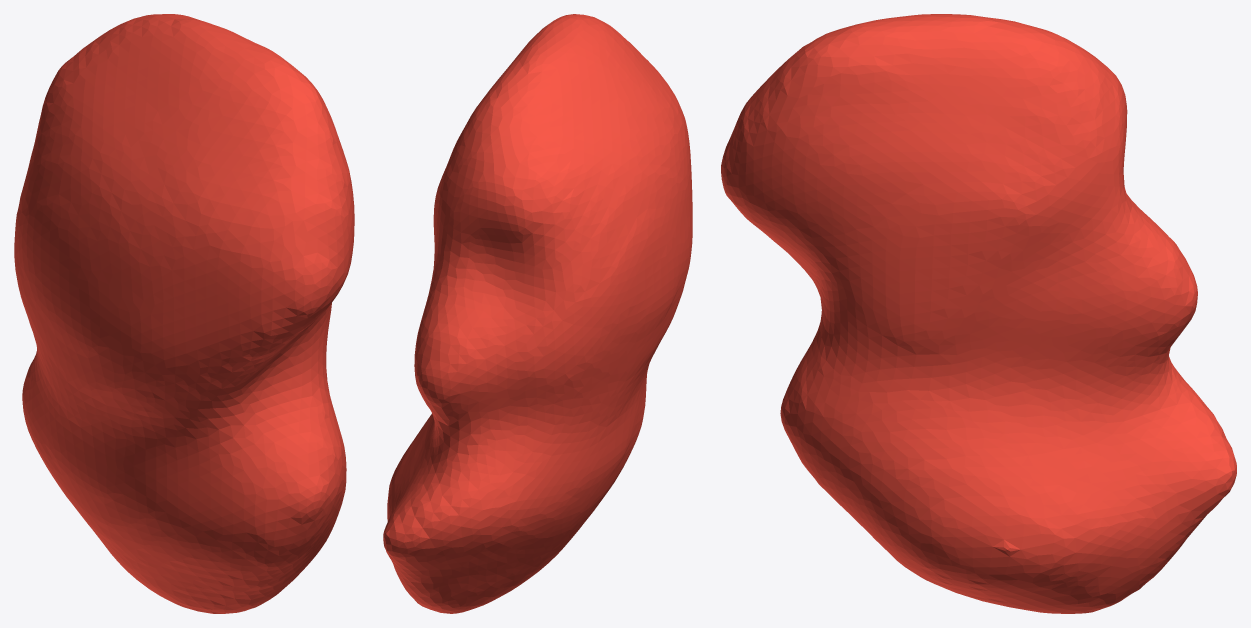
File: case_12_stroke.gltf
The picture shows the model from 3 angles, left to right: view 1: azimuth 30°, elevation 25°; view 2: azimuth 150°, elevation 25°; view 3: azimuth 270°, elevation 25°; orthographic projection. The views are drawn at different scales.
Parts seen in each view (by area): view 1: stroke; view 2: stroke; view 3: stroke.
Part boxes in pixels (bbox=[...]): stroke: bbox=[14, 14, 354, 613]; stroke: bbox=[383, 14, 692, 613]; stroke: bbox=[721, 14, 1236, 613].
Bounding box in the file's own units: 0.9216 × 1.99 × 1.62.
